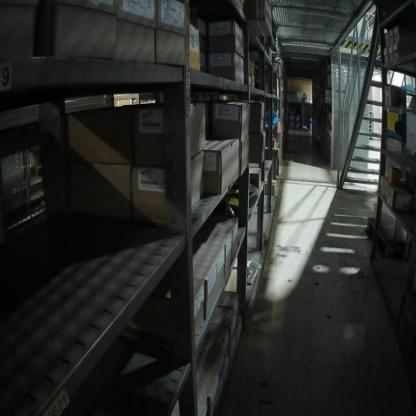pallet: (366, 217, 407, 260)
